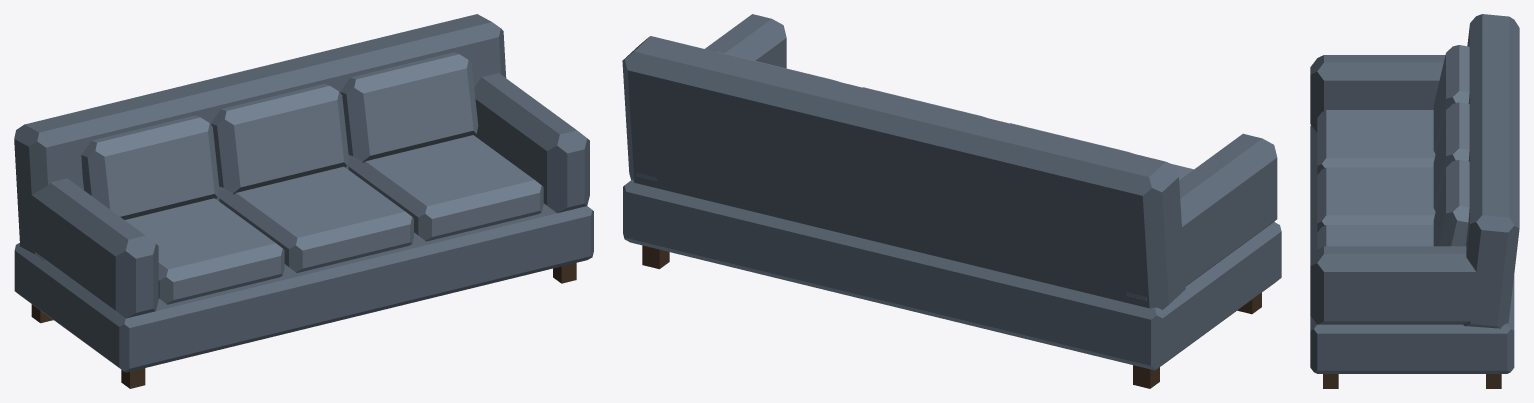
The model's file is canape.glb.
3 renders of one model, left to right at view 1: azimuth 30°, elevation 25°; view 2: azimuth 150°, elevation 25°; view 3: azimuth 270°, elevation 25°, orthographic. The views are drawn at different scales.
Visible parts, largest first — view 1: seats, base, backs, back, arm_l, arm_r, feet; view 2: back, base, arm_l, arm_r, feet; view 3: seats, back, arm_r, base, arm_l, backs, feet.
Boxes of the visible parts, x1,y1,x2,y2 form: seats: [125, 135, 543, 304]; base: [14, 204, 593, 372]; backs: [81, 52, 478, 219]; back: [14, 14, 506, 260]; arm_l: [21, 178, 158, 318]; arm_r: [474, 73, 589, 213]; feet: [31, 263, 576, 388]; back: [622, 36, 1185, 309]; base: [623, 179, 1281, 370]; arm_l: [1126, 133, 1277, 300]; arm_r: [636, 14, 786, 180]; feet: [642, 245, 1261, 388]; seats: [1317, 110, 1435, 249]; back: [1463, 14, 1519, 328]; arm_r: [1310, 246, 1495, 324]; base: [1310, 125, 1514, 373]; arm_l: [1310, 55, 1445, 132]; backs: [1433, 45, 1469, 246]; feet: [1323, 374, 1501, 388].
Size of the model in its own units: 2.2 by 0.8547 by 0.9234.
Materials: 3 (3 with a texture image).
